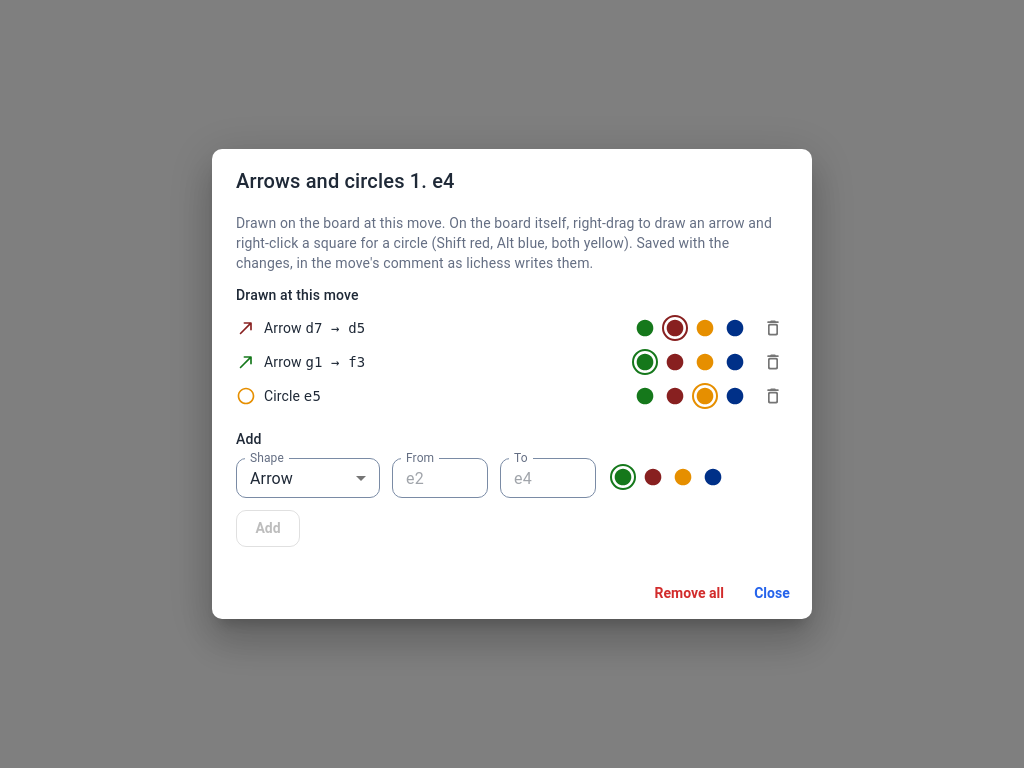
ShapesDialog — the move's shapes › removes one shape, then all of them
Click the button named "Remove Arrow g1 → f3" at (773, 362), box [758,346,788,376]
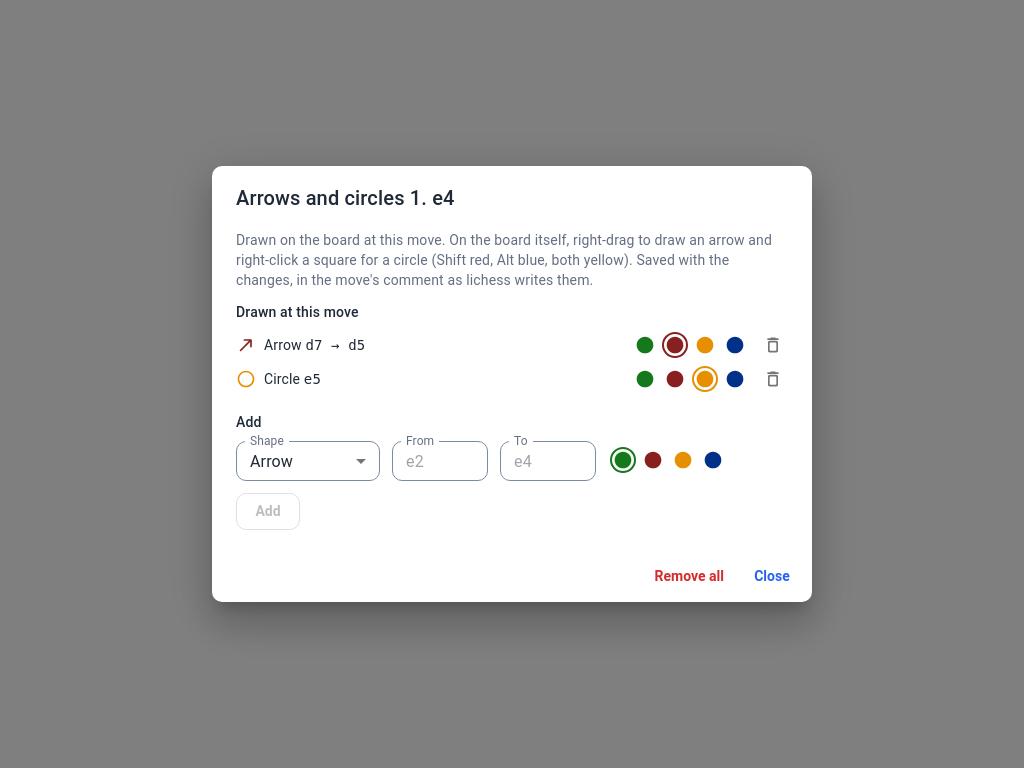
expect the list item with test id "shapes-dialog-row-g1f3" is gone: met
Click the button "Remove all" at (689, 576), box [647,558,732,594]
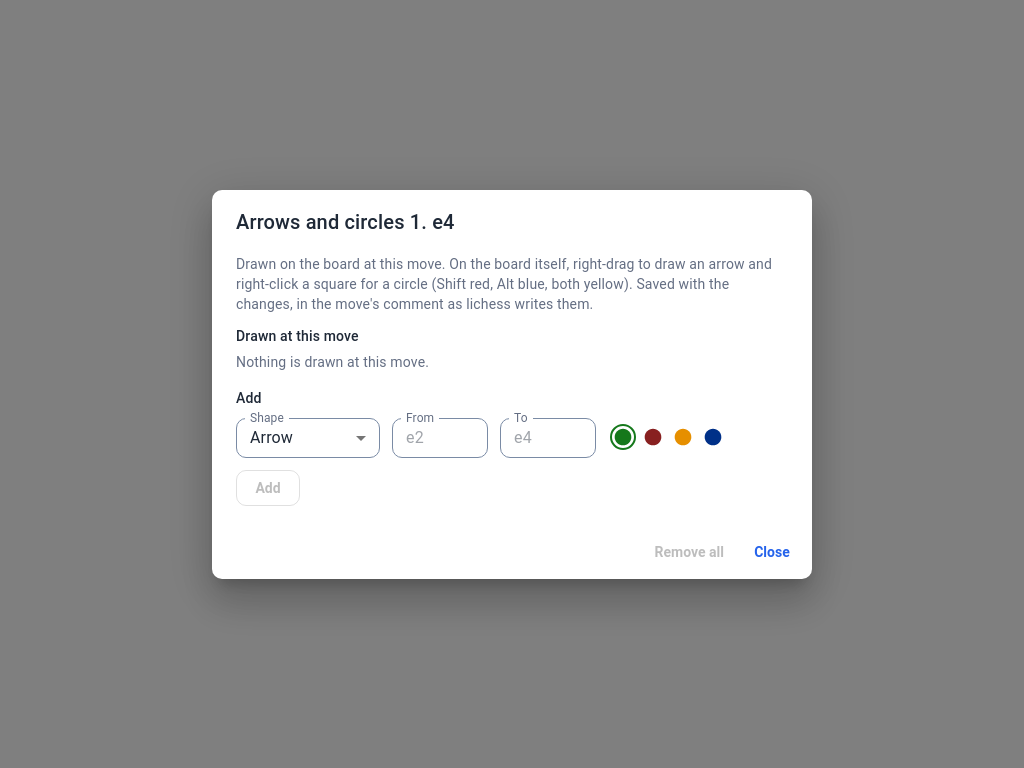
expect the text "Nothing is drawn at this move." is shown: met, box [236,354,429,370]
expect the button "Remove all" is disabled: met, box [647,534,732,570]
